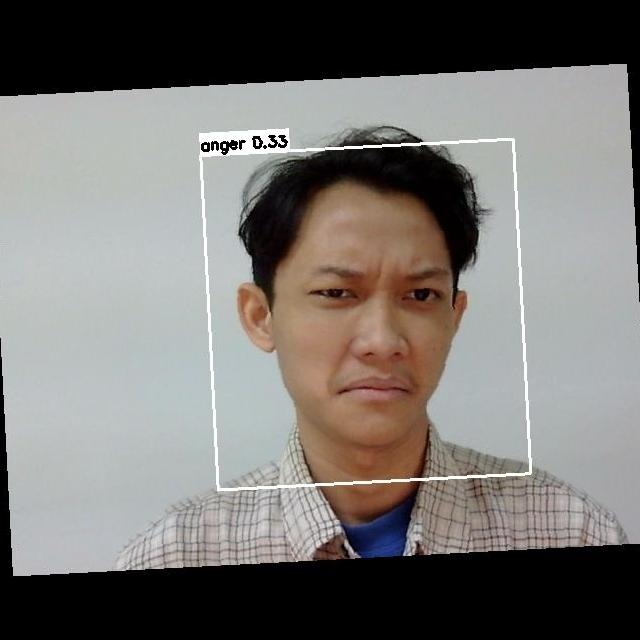Disgust: (272, 231, 475, 425)
